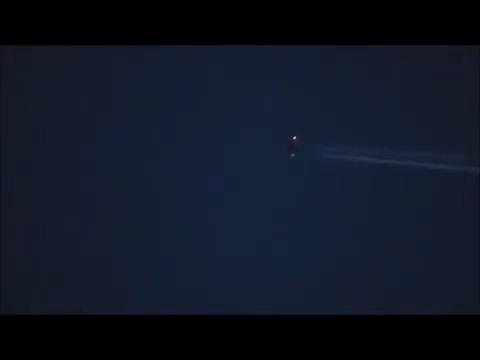Plane: (259, 124, 479, 185)
